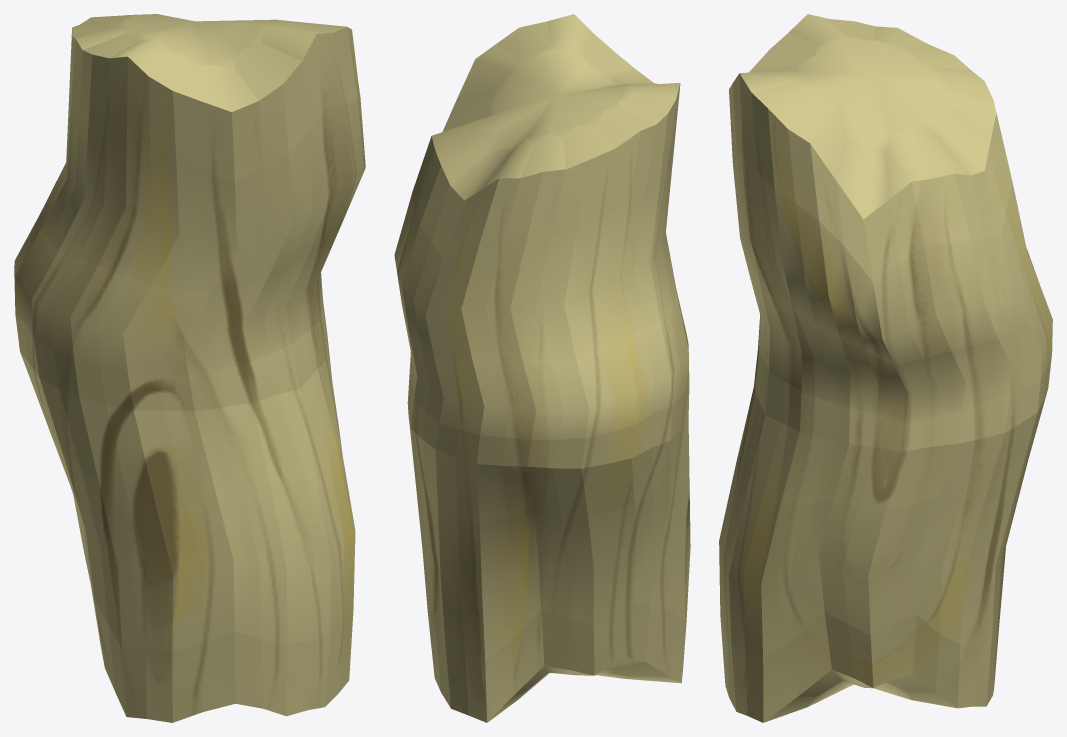
The model's file is breakableTwig_Center 1.fbx.
3 views of the same model, side by side, from view 1: azimuth 30°, elevation 25°; view 2: azimuth 150°, elevation 25°; view 3: azimuth 270°, elevation 25° (orthographic). The views are drawn at different scales.
Parts seen in each view (by area): view 1: polySurface13; view 2: polySurface13; view 3: polySurface13.
Boxes of the visible parts, left/top/right/bottom form: polySurface13: left=14, top=14, right=365, bottom=722; polySurface13: left=394, top=14, right=690, bottom=722; polySurface13: left=719, top=14, right=1052, bottom=722.
Bounding box in the file's own units: 68.64 × 146 × 69.55.
1 material, 1 textured.
